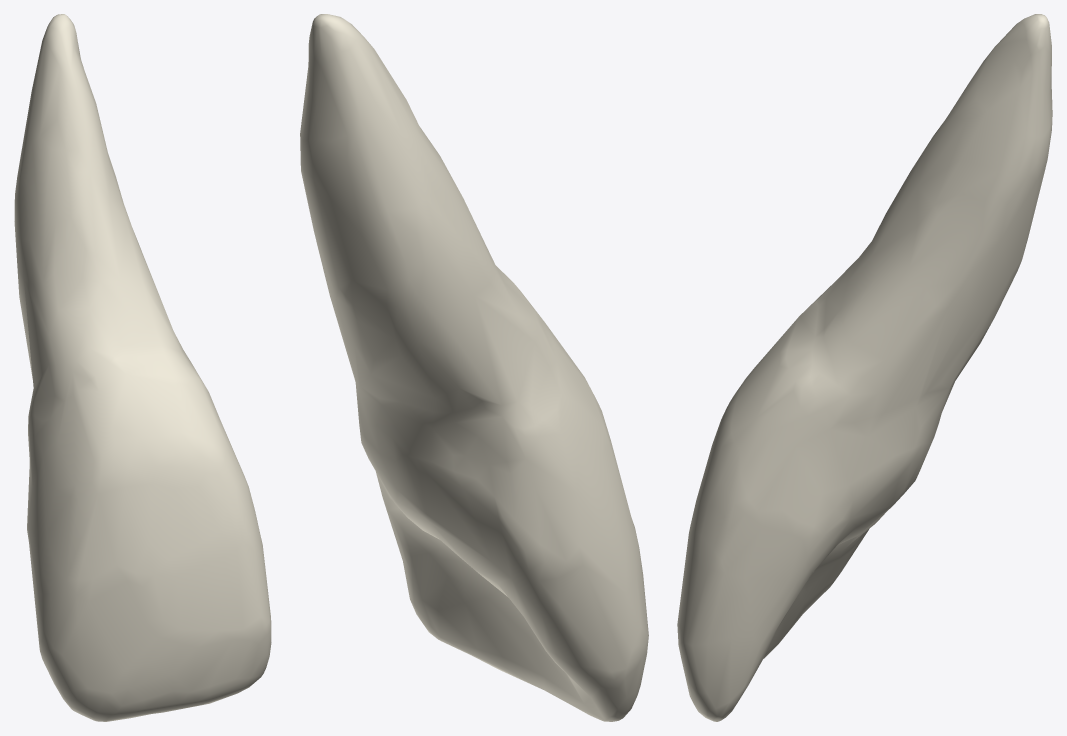
3 renders of one model, left to right at view 1: azimuth 30°, elevation 25°; view 2: azimuth 150°, elevation 25°; view 3: azimuth 270°, elevation 25°, orthographic. The views are drawn at different scales.
Parts seen in each view (by area): view 1: ZA_b18e52d0e6eba731; view 2: ZA_b18e52d0e6eba731; view 3: ZA_b18e52d0e6eba731.
Boxes of the visible parts, x1,y1,x2,y2 form: ZA_b18e52d0e6eba731: (14, 14, 271, 721); ZA_b18e52d0e6eba731: (300, 14, 648, 721); ZA_b18e52d0e6eba731: (677, 14, 1052, 721).
Bounding box in the file's own units: 0.00879 × 0.0258 × 0.0126.
